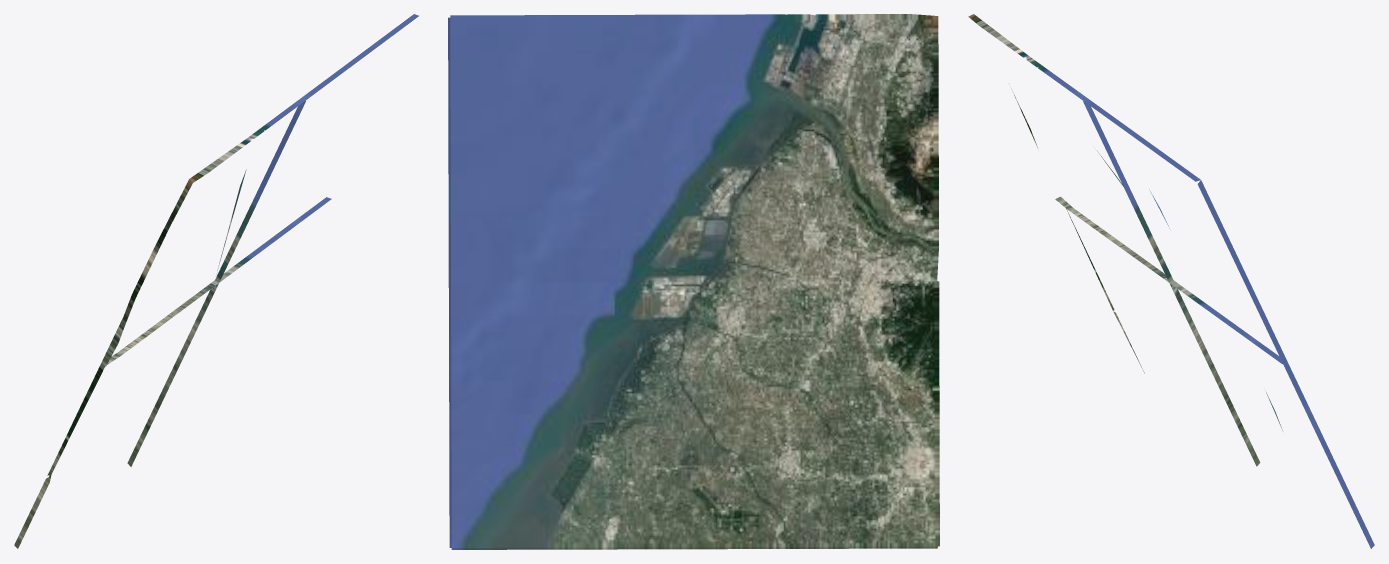
3 views of the same model, side by side, from view 1: azimuth 30°, elevation 25°; view 2: azimuth 150°, elevation 25°; view 3: azimuth 270°, elevation 25° (orthographic). The views are drawn at different scales.
Bounding box in the file's own units: 39493 × 36176 × 32295.
Materials: 1 (1 with a texture image).
